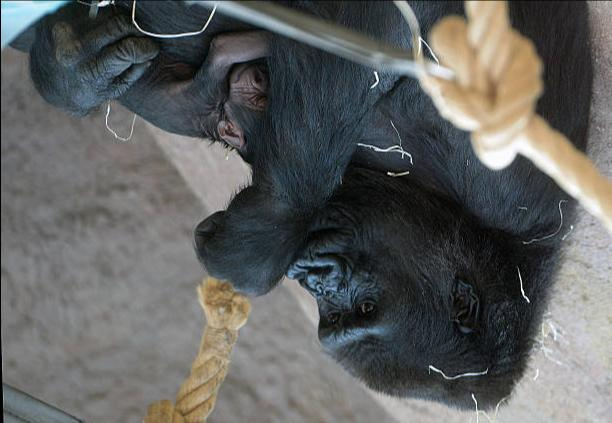gorille_Autres: (149, 70, 586, 421)
